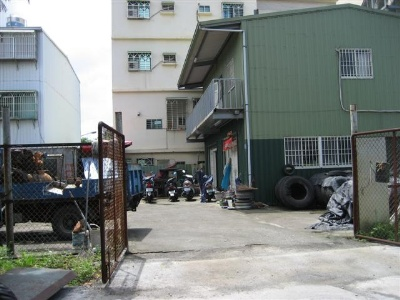tire: (279, 176, 314, 209), (282, 164, 295, 175), (327, 170, 347, 176)
water_tower: (4, 15, 27, 27)
